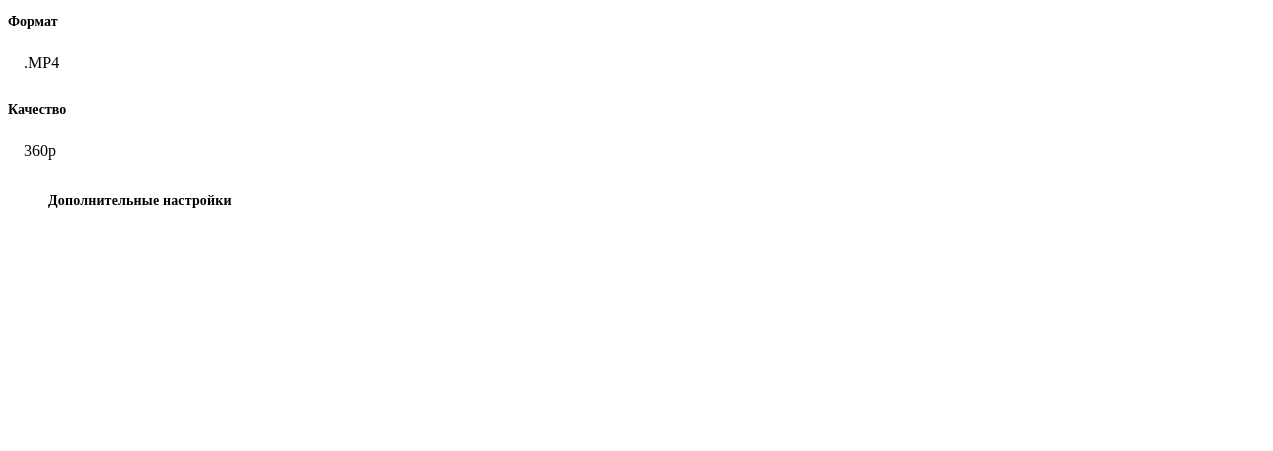
DropdownList › should change value in accordion
The image size is (1273, 451).
Click the heading "Дополнительные настройки" at (140, 201), box x1=48 y1=193 x2=232 y2=209
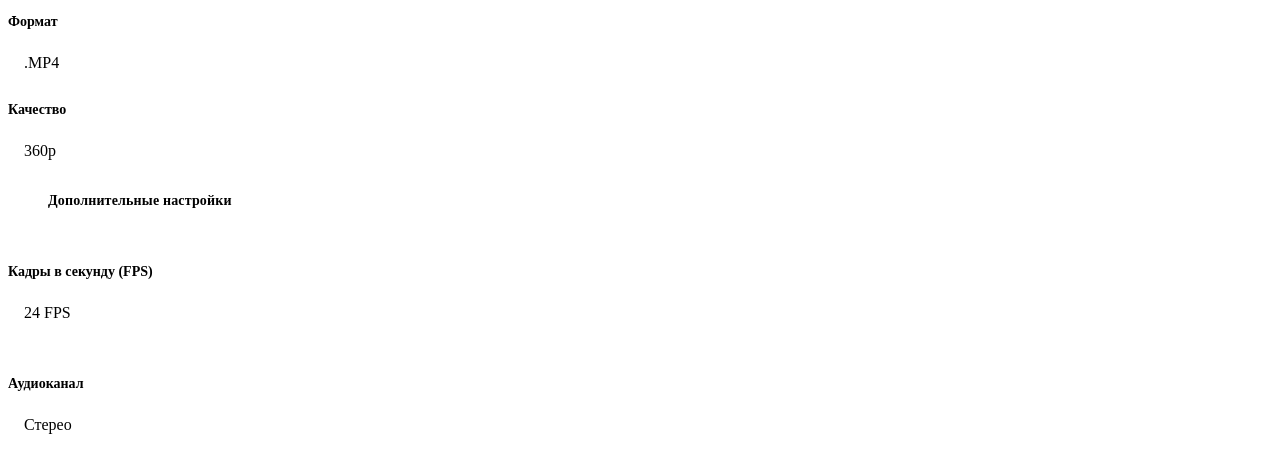
Click the text "24 FPS" at (47, 312), box x1=24 y1=304 x2=1256 y2=321
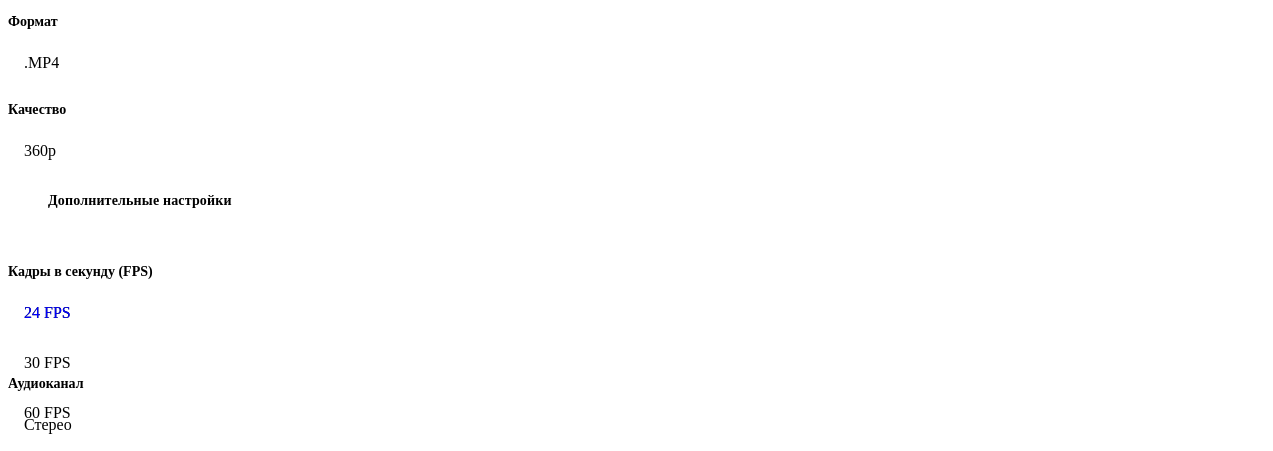
Click the text "60 FPS" at (47, 412), box x1=24 y1=404 x2=71 y2=421
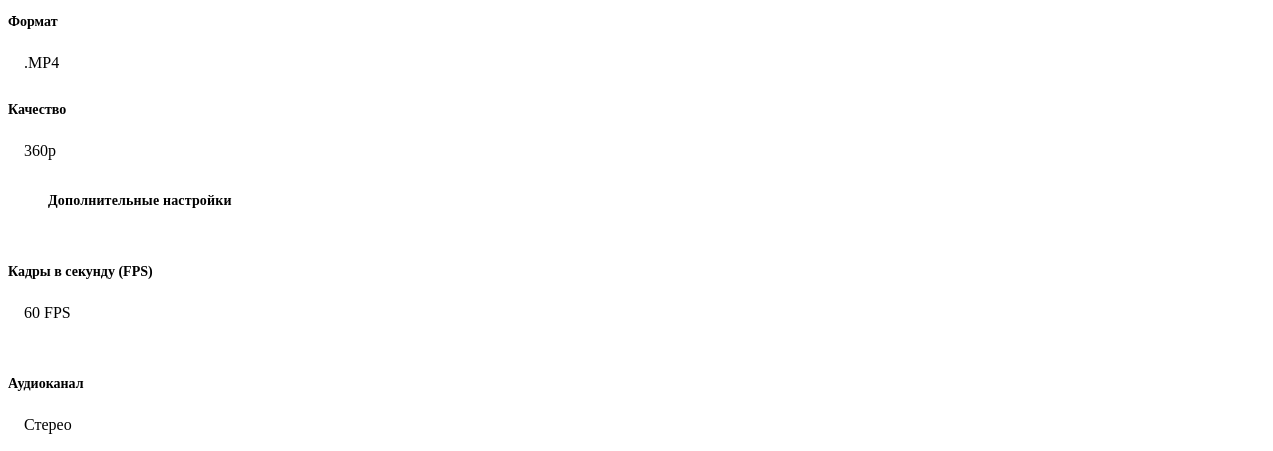
expect the text "60 FPS" is shown: met, box x1=24 y1=304 x2=1256 y2=321
